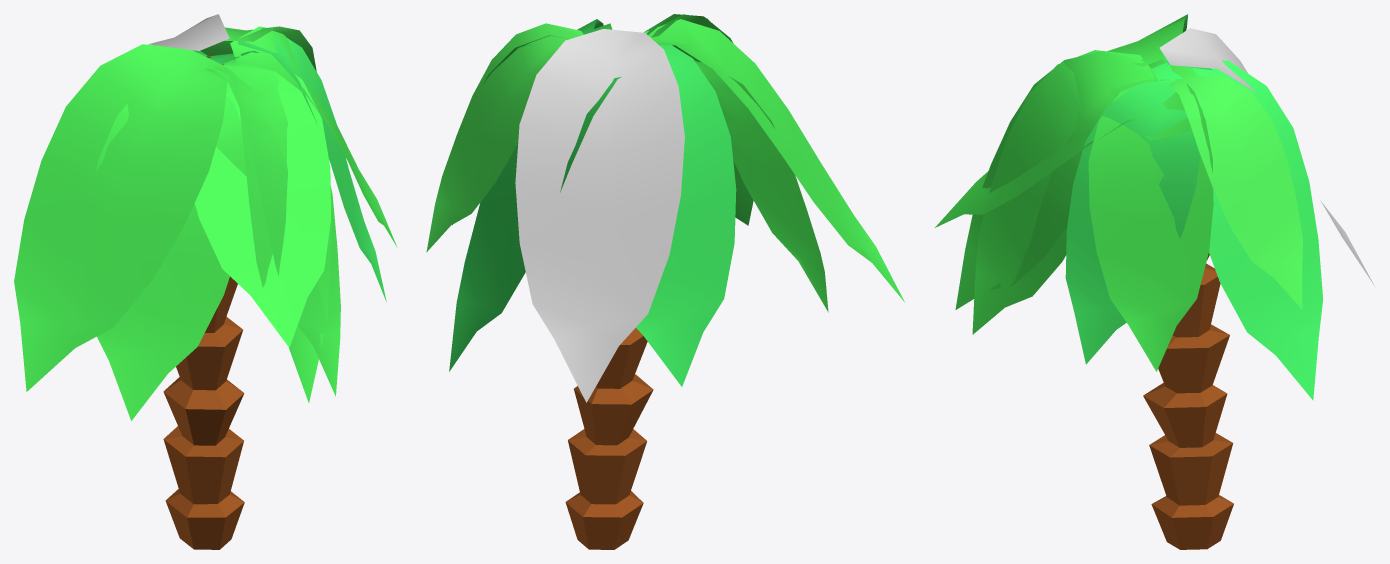
File: tree65.gltf
3 views of the same model, side by side, from view 1: azimuth 30°, elevation 25°; view 2: azimuth 150°, elevation 25°; view 3: azimuth 270°, elevation 25° (orthographic). The views are drawn at different scales.
Parts seen in each view (by area): view 1: BezierCurve.007, BezierCurve.004, Cylinder, BezierCurve.005, BezierCurve.003, BezierCurve.008, BezierCurve.010, BezierCurve.002, BezierCurve, BezierCurve.006; view 2: BezierCurve, BezierCurve.001, Cylinder, BezierCurve.006, BezierCurve.007, BezierCurve.009, BezierCurve.005, BezierCurve.008; view 3: BezierCurve.002, Cylinder, BezierCurve.006, BezierCurve.003, BezierCurve.009, BezierCurve.010, BezierCurve.008, BezierCurve.004, BezierCurve, BezierCurve.007.
Part boxes in pixels (bbox=[...]): BezierCurve.007: bbox=[14, 44, 227, 391]; BezierCurve.004: bbox=[194, 59, 330, 347]; Cylinder: bbox=[163, 56, 244, 549]; BezierCurve.005: bbox=[96, 96, 246, 420]; BezierCurve.003: bbox=[205, 65, 340, 396]; BezierCurve.008: bbox=[214, 66, 331, 402]; BezierCurve.010: bbox=[238, 35, 386, 302]; BezierCurve.002: bbox=[230, 26, 397, 247]; BezierCurve: bbox=[148, 14, 229, 50]; BezierCurve.006: bbox=[200, 26, 316, 71]; BezierCurve: bbox=[515, 29, 684, 402]; BezierCurve.001: bbox=[636, 42, 736, 386]; Cylinder: bbox=[565, 328, 653, 549]; BezierCurve.006: bbox=[426, 23, 583, 252]; BezierCurve.007: bbox=[643, 19, 904, 302]; BezierCurve.009: bbox=[449, 76, 621, 371]; BezierCurve.005: bbox=[695, 62, 828, 312]; BezierCurve.008: bbox=[644, 14, 753, 225]; BezierCurve.002: bbox=[1088, 79, 1213, 371]; Cylinder: bbox=[1143, 253, 1233, 549]; BezierCurve.006: bbox=[1169, 75, 1302, 309]; BezierCurve.003: bbox=[972, 50, 1156, 334]; BezierCurve.009: bbox=[1151, 60, 1323, 400]; BezierCurve.010: bbox=[1065, 79, 1202, 364]; BezierCurve.008: bbox=[955, 51, 1154, 309]; BezierCurve.004: bbox=[935, 59, 1198, 227]; BezierCurve: bbox=[1159, 28, 1374, 285]; BezierCurve.007: bbox=[1107, 14, 1187, 66].
Size of the model in its own units: 5.09 by 6.04 by 4.93.
